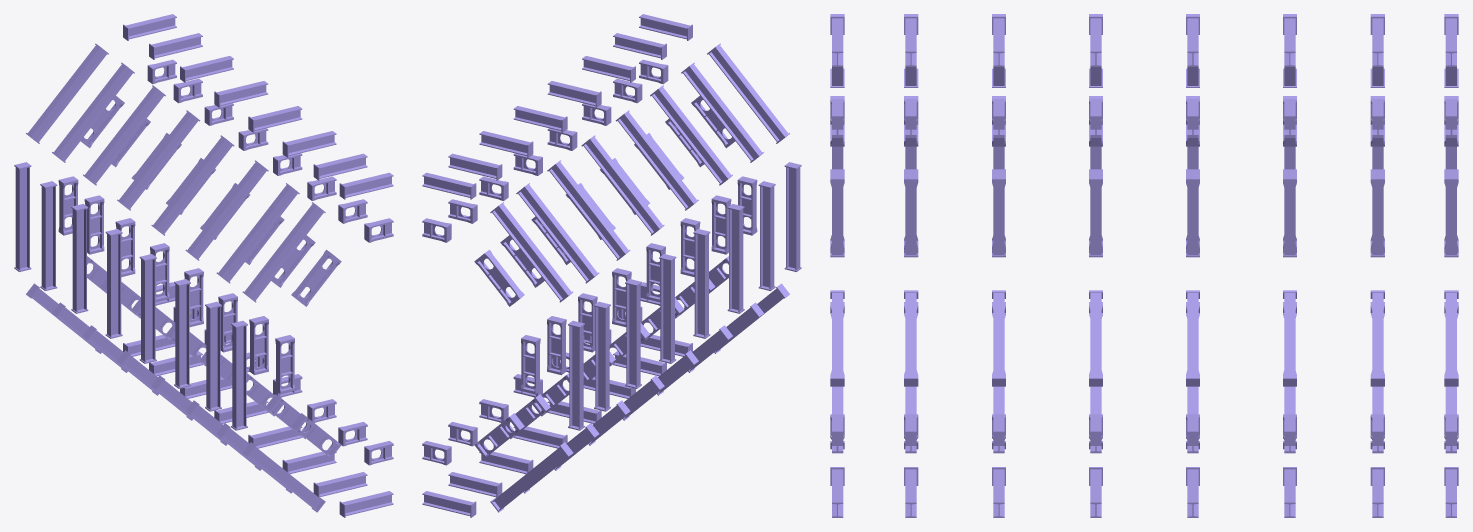
Rendered from Warm-Structure-cut2.glb.
3 views of the same model, side by side, from view 1: azimuth 30°, elevation 25°; view 2: azimuth 150°, elevation 25°; view 3: azimuth 270°, elevation 25° (orthographic). The views are drawn at different scales.
Visible parts, largest first — view 1: null; view 2: null; view 3: null.
Boxes of the visible parts, x1,y1,x2,y2 form: null: (14, 14, 393, 517); null: (422, 14, 801, 517); null: (830, 14, 1458, 517).
Size of the model in its own units: 9.14 by 18.28 by 22.19.
